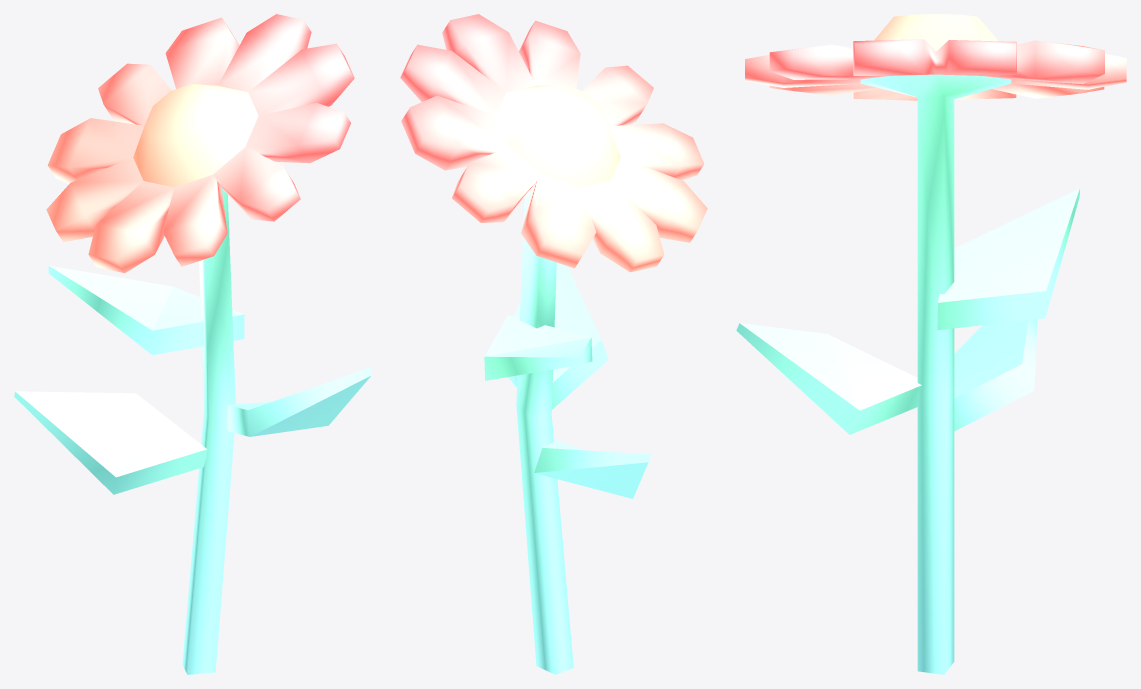
File: Wild_Flower_Red.glb
3 views of the same model, side by side, from view 1: azimuth 30°, elevation 25°; view 2: azimuth 150°, elevation 25°; view 3: azimuth 270°, elevation 25° (orthographic). The views are drawn at different scales.
Visible parts, largest first — view 1: Wild_Flower_Red; view 2: Wild_Flower_Red; view 3: Wild_Flower_Red.
Part boxes in pixels (left/top/right/bottom): Wild_Flower_Red: left=14, top=14, right=371, bottom=674; Wild_Flower_Red: left=400, top=14, right=707, bottom=674; Wild_Flower_Red: left=736, top=14, right=1126, bottom=674.
Size of the model in its own units: 0.5624 by 1.21 by 0.6193.
